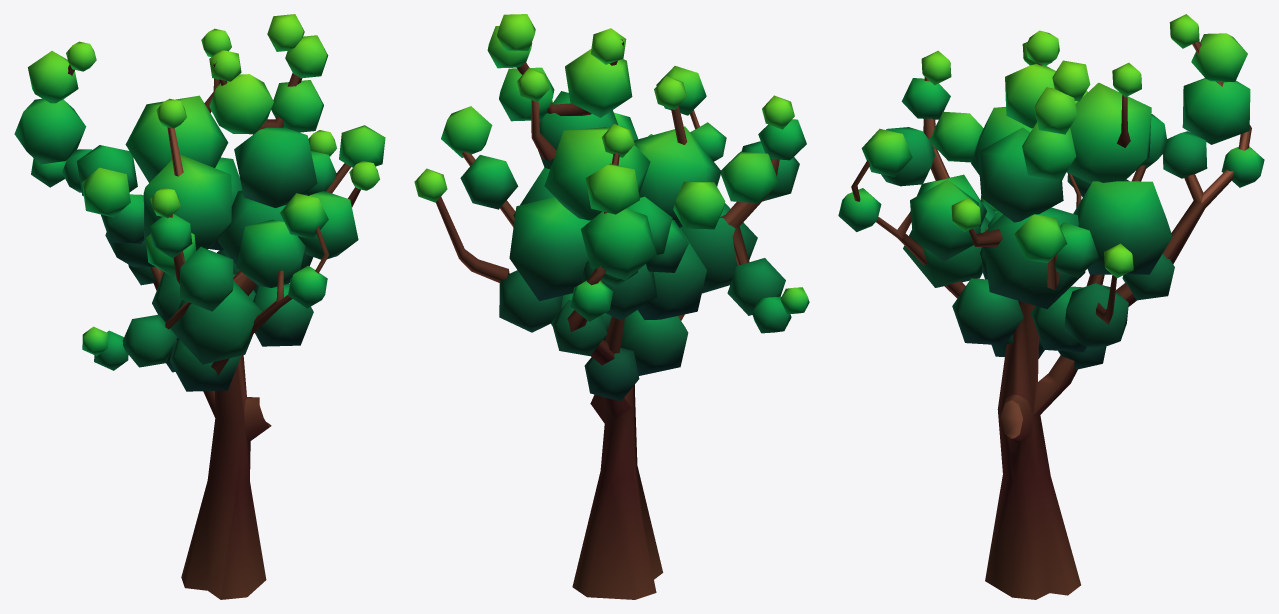
Rendered from Tree_2E.fbx.
The picture shows the model from 3 angles, left to right: view 1: azimuth 30°, elevation 25°; view 2: azimuth 150°, elevation 25°; view 3: azimuth 270°, elevation 25°; orthographic projection. The views are drawn at different scales.
Visible parts, largest first — view 1: Tree_2E; view 2: Tree_2E; view 3: Tree_2E.
Part boxes in pixels (x1=…): Tree_2E: x1=14, y1=14, x2=385, y2=599; Tree_2E: x1=414, y1=14, x2=809, y2=599; Tree_2E: x1=838, y1=14, x2=1264, y2=599.
Size of the model in its own units: 5.26 by 8.35 by 5.78.
